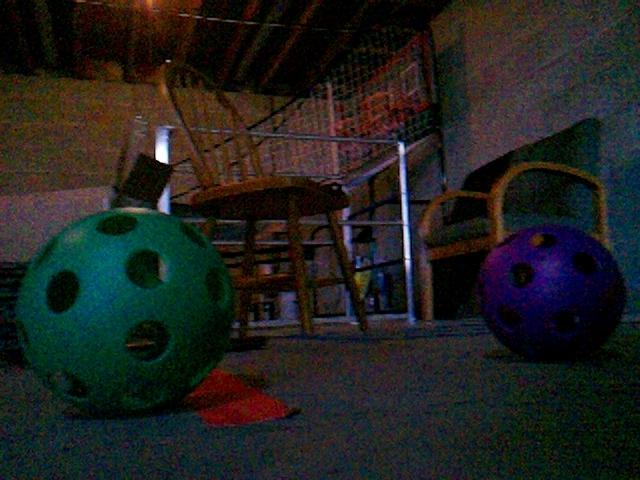Green: (14, 205, 237, 415)
Purple: (475, 220, 627, 361)
